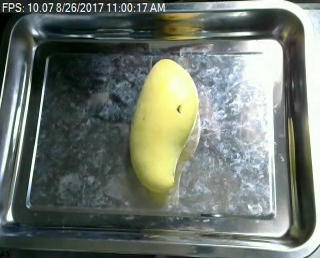Mango: (123, 54, 203, 196)
